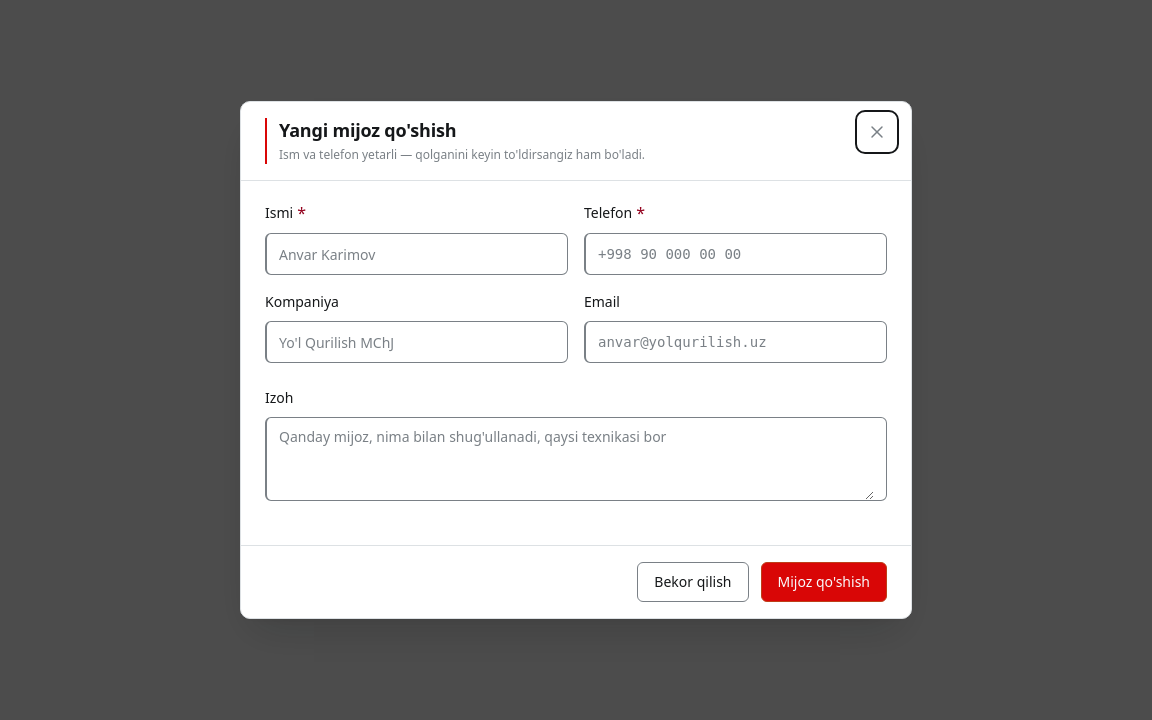
it: CustomerCreateForm › keeps the form open and shows why when the server refuses
Type "Anvar" into the field labelled "Ismi" at (417, 254), box [279, 234, 555, 274]
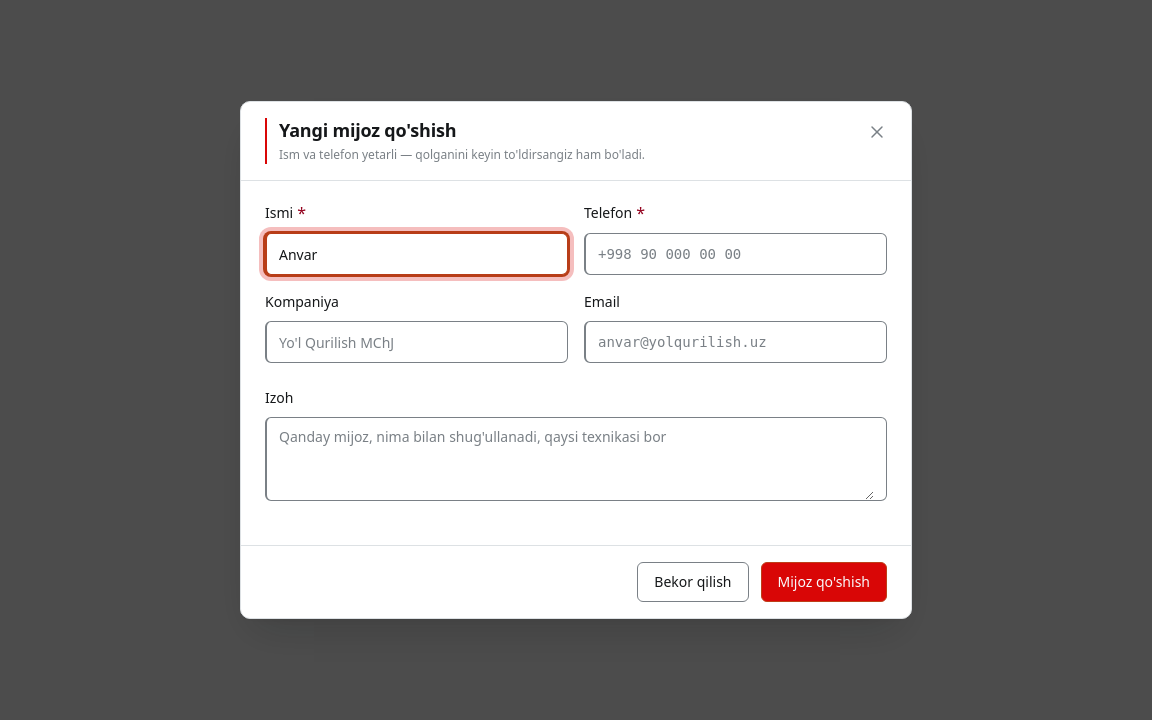
Type "12" into the field labelled "Telefon" at (736, 254), box [598, 234, 874, 274]
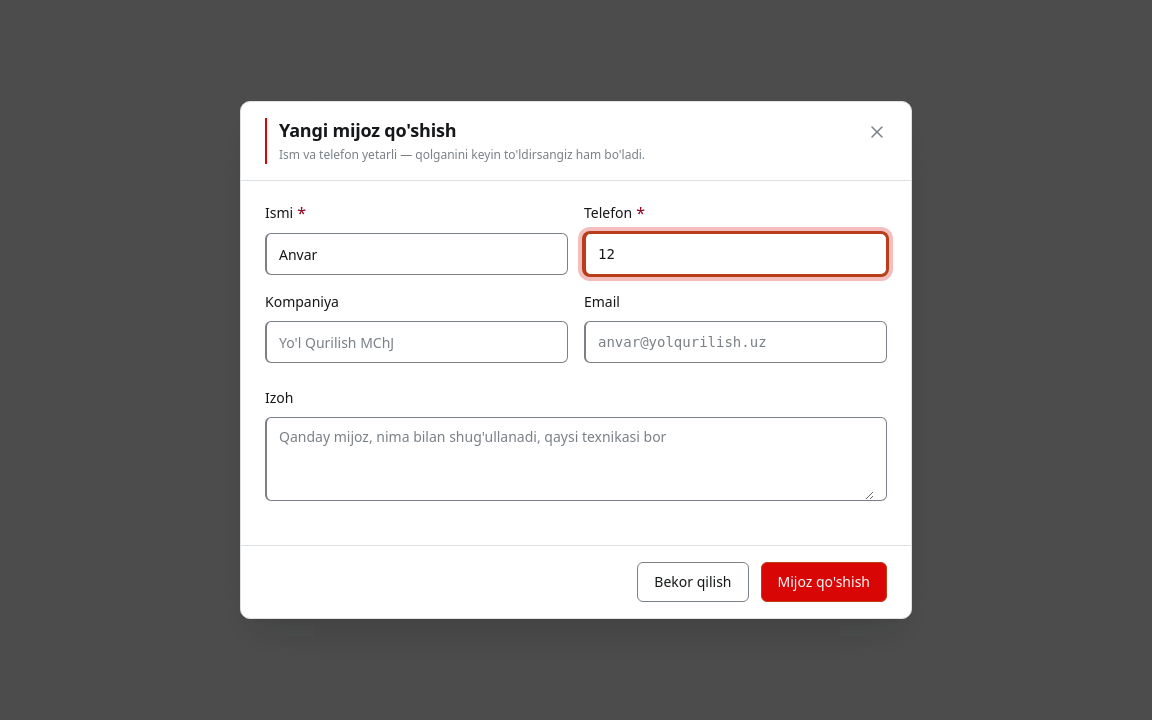
Click the button "Mijoz qo'shish" at (824, 582), box [760, 562, 887, 602]
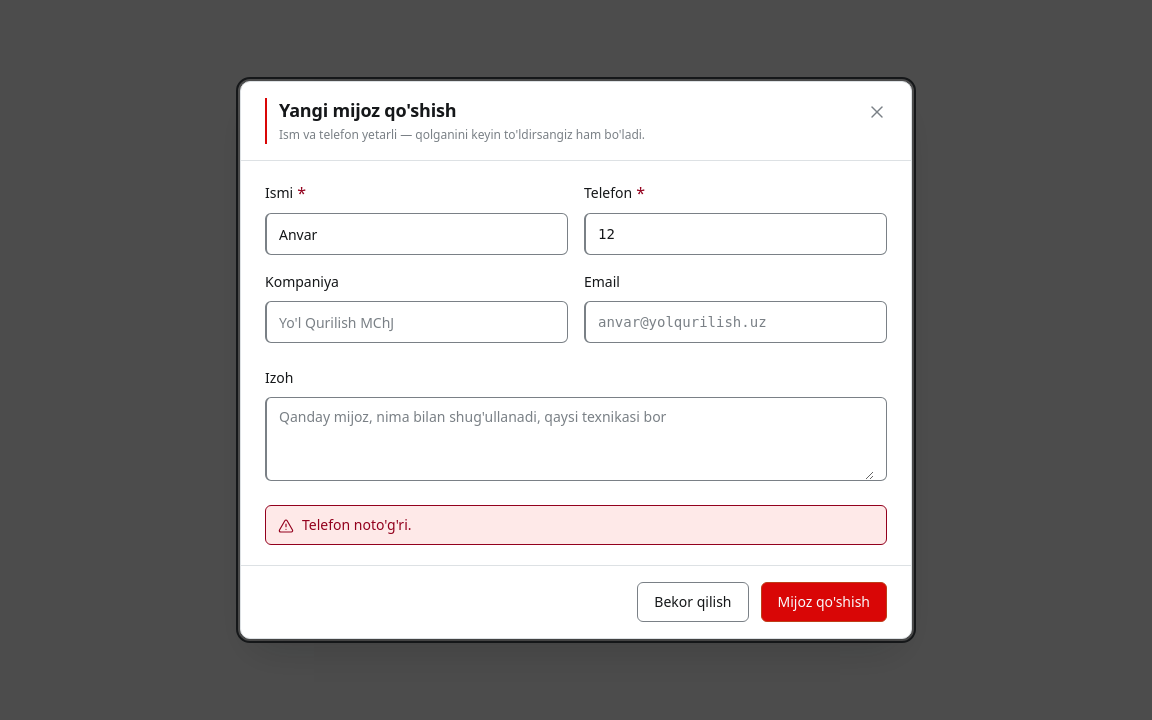
Check: the text "Telefon noto'g'ri." is shown, box [302, 514, 412, 536]
